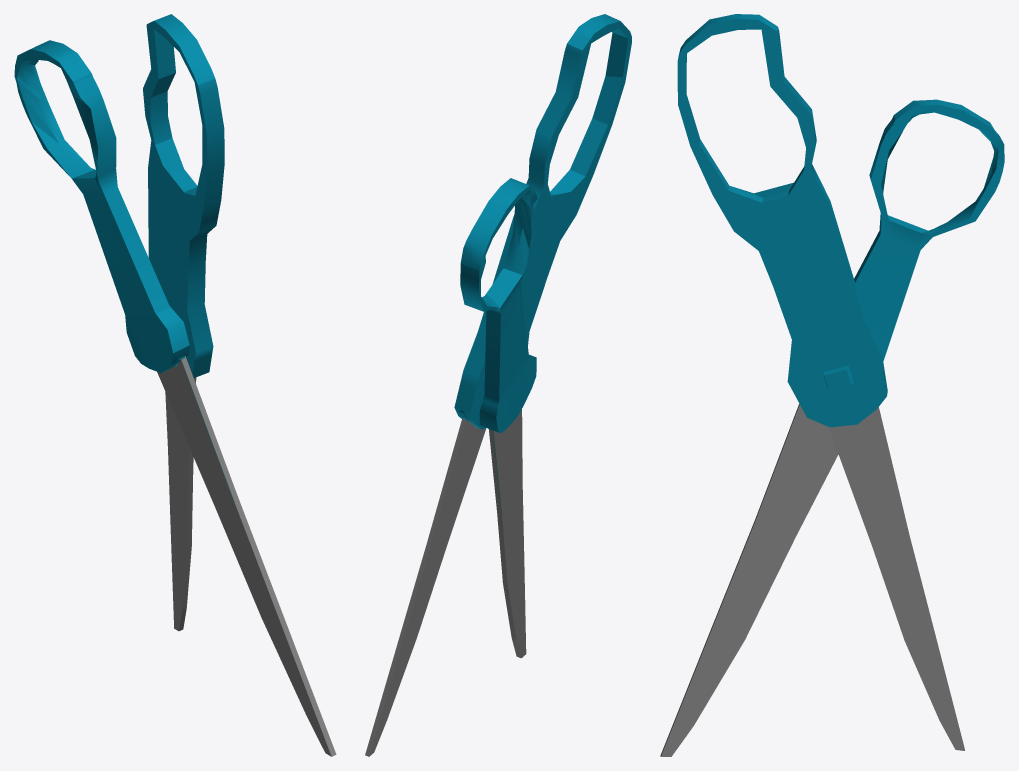
File: Scissors_LP.fbx
3 renders of one model, left to right at view 1: azimuth 30°, elevation 25°; view 2: azimuth 150°, elevation 25°; view 3: azimuth 270°, elevation 25°, orthographic. The views are drawn at different scales.
Visible parts, largest first — view 1: Scissors; view 2: Scissors; view 3: Scissors.
Boxes of the visible parts, x1,y1,x2,y2 form: Scissors: (14,14,336,756); Scissors: (365,14,631,756); Scissors: (660,14,1004,756).
Size of the model in its own units: 2.49 by 11.69 by 5.31.
